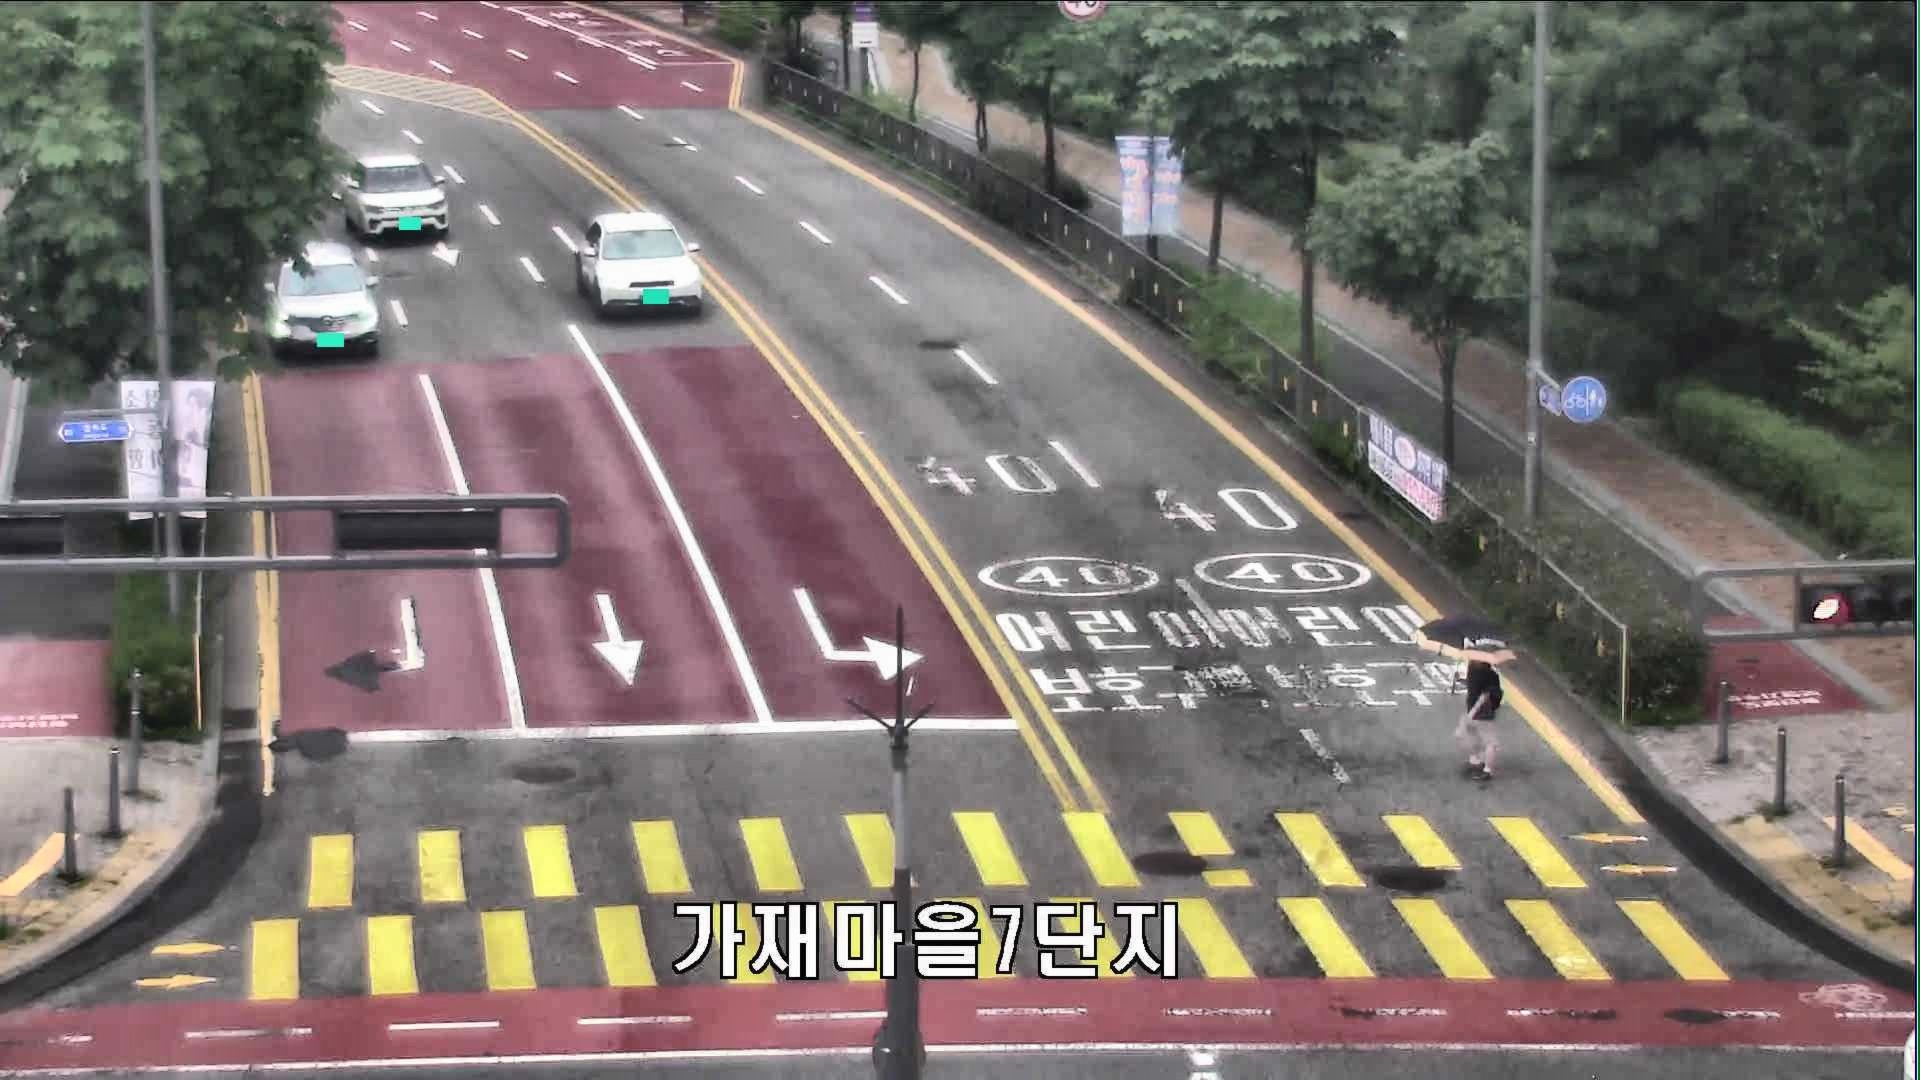um_crosswalk: (1412, 615, 1516, 785)
